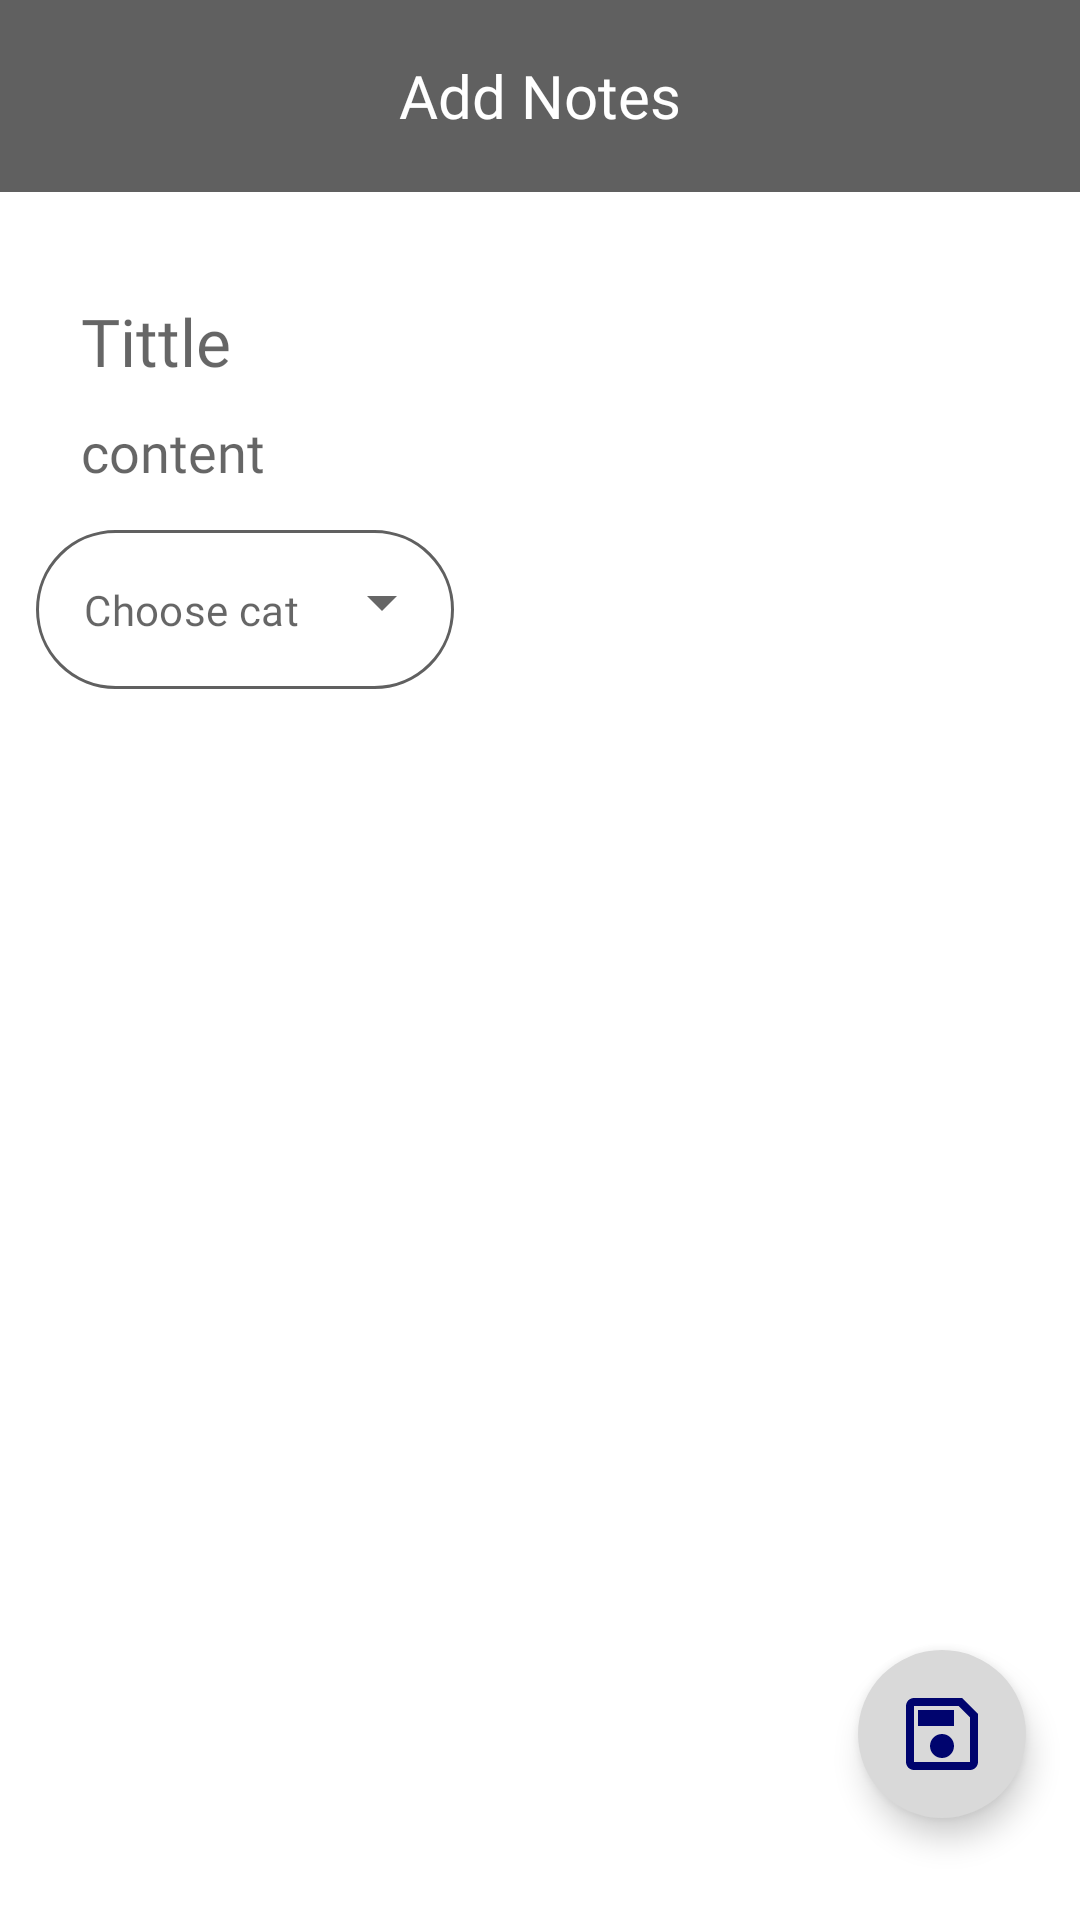

Icon bounding boxes for this 1080×1920 phone screenshot, format (x1, y1, x2, y2):
save: (858, 1650, 1026, 1818)
